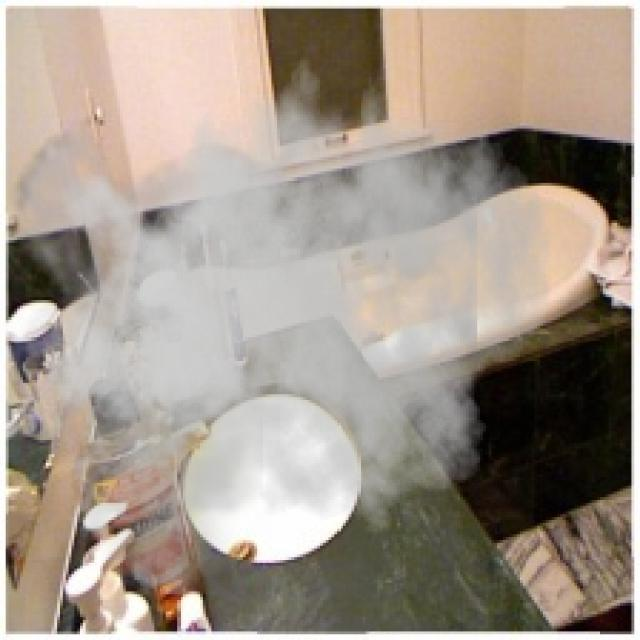Smoke: (6, 34, 554, 594)
